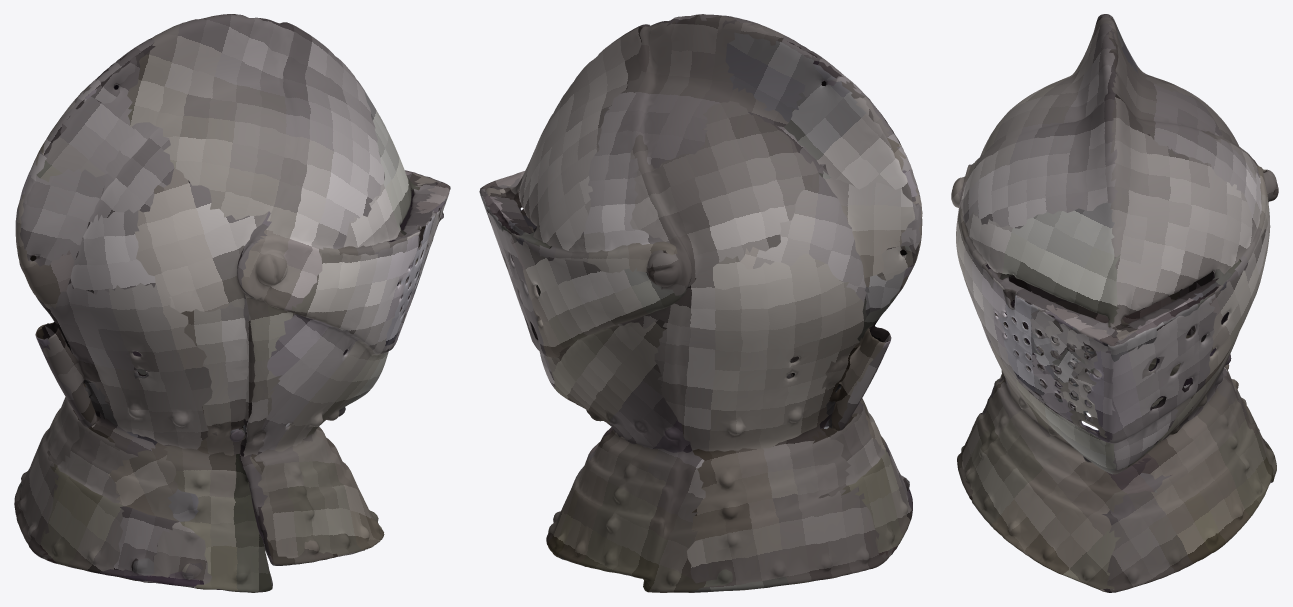
The model's file is closed-helmet.glb.
3 views of the same model, side by side, from view 1: azimuth 30°, elevation 25°; view 2: azimuth 150°, elevation 25°; view 3: azimuth 270°, elevation 25° (orthographic). The views are drawn at different scales.
Visible parts, largest first — view 1: Object_3; view 2: Object_3; view 3: Object_3.
Part boxes in pixels (x1=…): Object_3: x1=14, y1=14, x2=450, y2=592; Object_3: x1=479, y1=14, x2=922, y2=592; Object_3: x1=951, y1=14, x2=1278, y2=592.
Size of the model in its own units: 327 by 389 by 238.
1 material, 1 textured.
